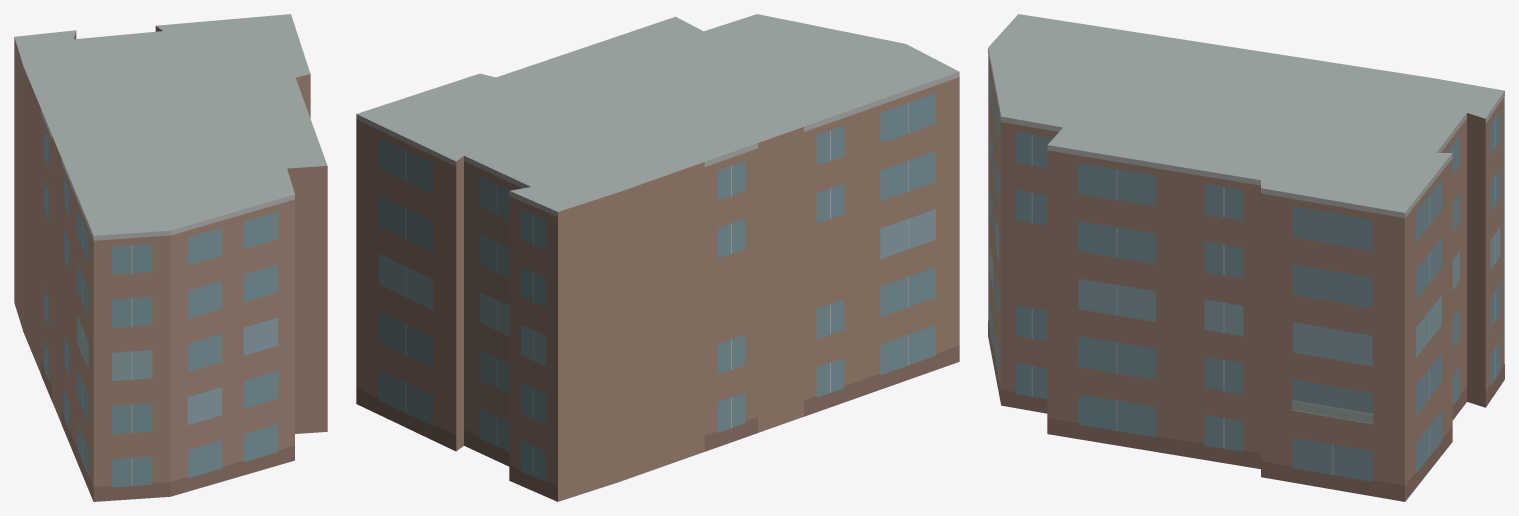
Rendered from survey-upis-32920543.glb.
3 views of the same model, side by side, from view 1: azimuth 30°, elevation 25°; view 2: azimuth 150°, elevation 25°; view 3: azimuth 270°, elevation 25° (orthographic). The views are drawn at different scales.
Visible parts, largest first — view 1: survey-upis-32920543.tmp; view 2: survey-upis-32920543.tmp; view 3: survey-upis-32920543.tmp.
Part boxes in pixels (x1=…): survey-upis-32920543.tmp: x1=14, y1=14, x2=327, y2=501; survey-upis-32920543.tmp: x1=356, y1=14, x2=959, y2=501; survey-upis-32920543.tmp: x1=988, y1=14, x2=1504, y2=501.
Bounding box in the file's own units: 19.65 × 13.3 × 21.56.
